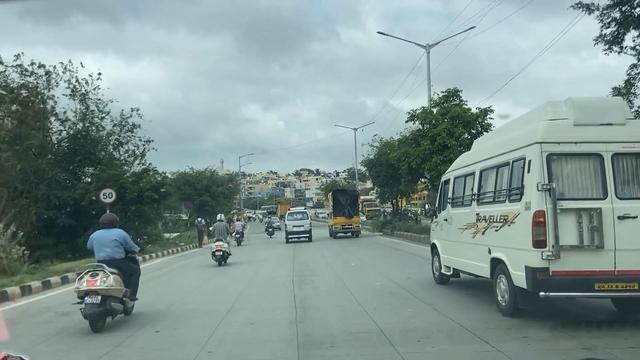HMV: (431, 138, 640, 318), (325, 184, 366, 237)
LMV: (68, 204, 145, 328), (209, 211, 234, 267), (281, 200, 313, 243)
